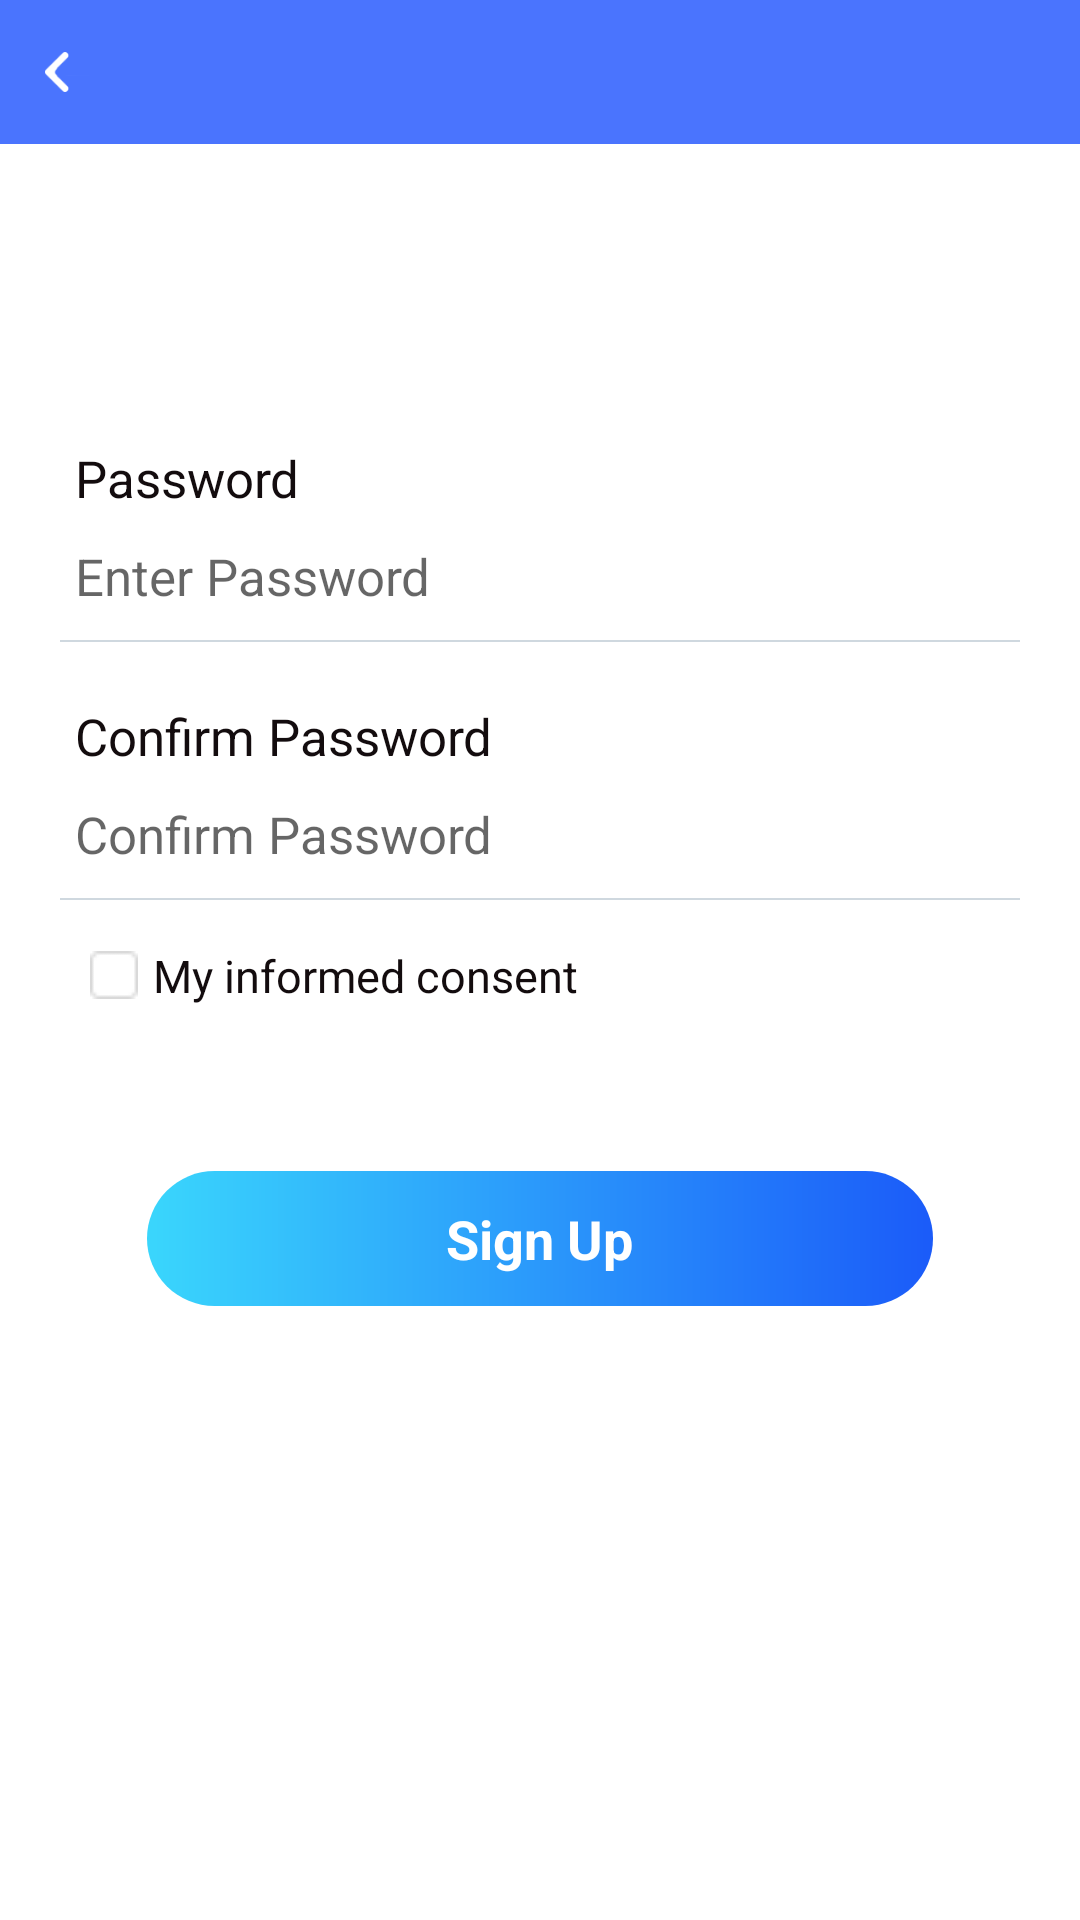

Where icons sit on this 1080w x 1920h app screen, as detection(x1, y1, x2, y2):
back: detection(45, 52, 69, 92)
